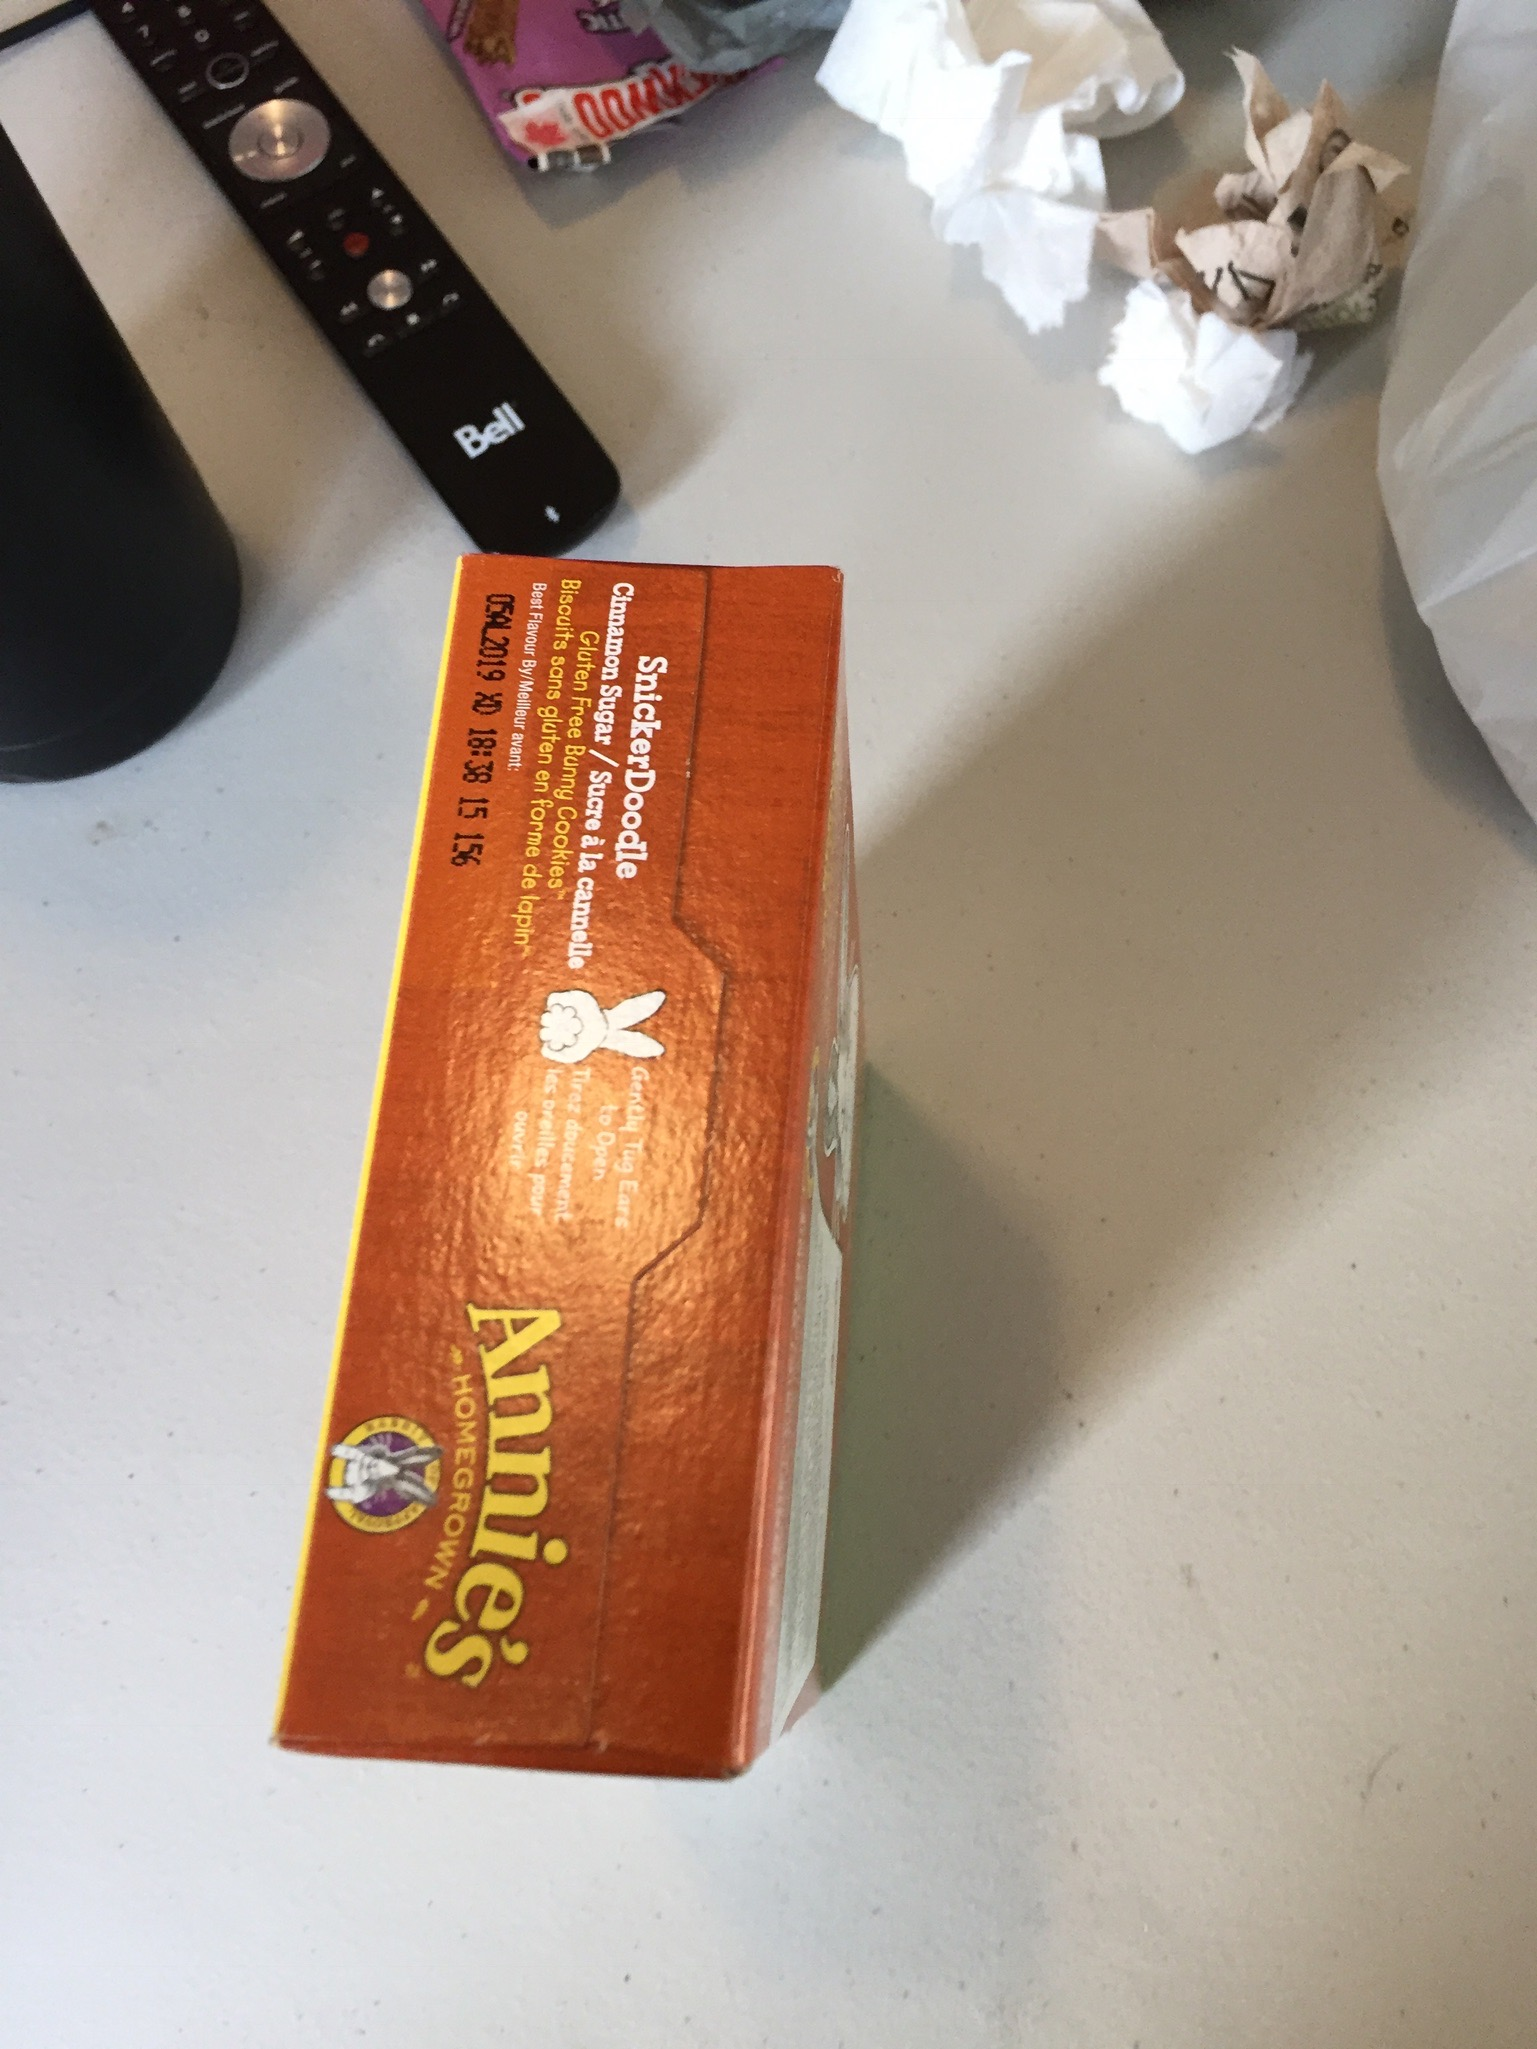annies_snickerdoodle_cinnamon_sugar: (310, 588, 835, 1733)
